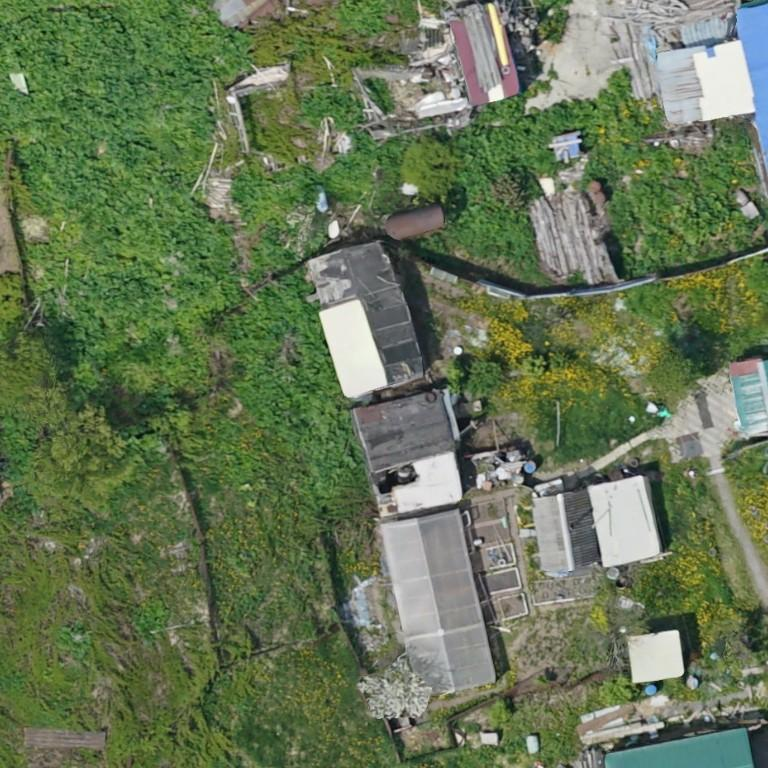hogweed: (0, 0, 250, 353), (448, 70, 630, 264), (221, 268, 365, 499), (229, 163, 318, 219), (325, 133, 401, 194), (302, 87, 363, 130), (252, 219, 293, 277), (339, 0, 384, 29)
